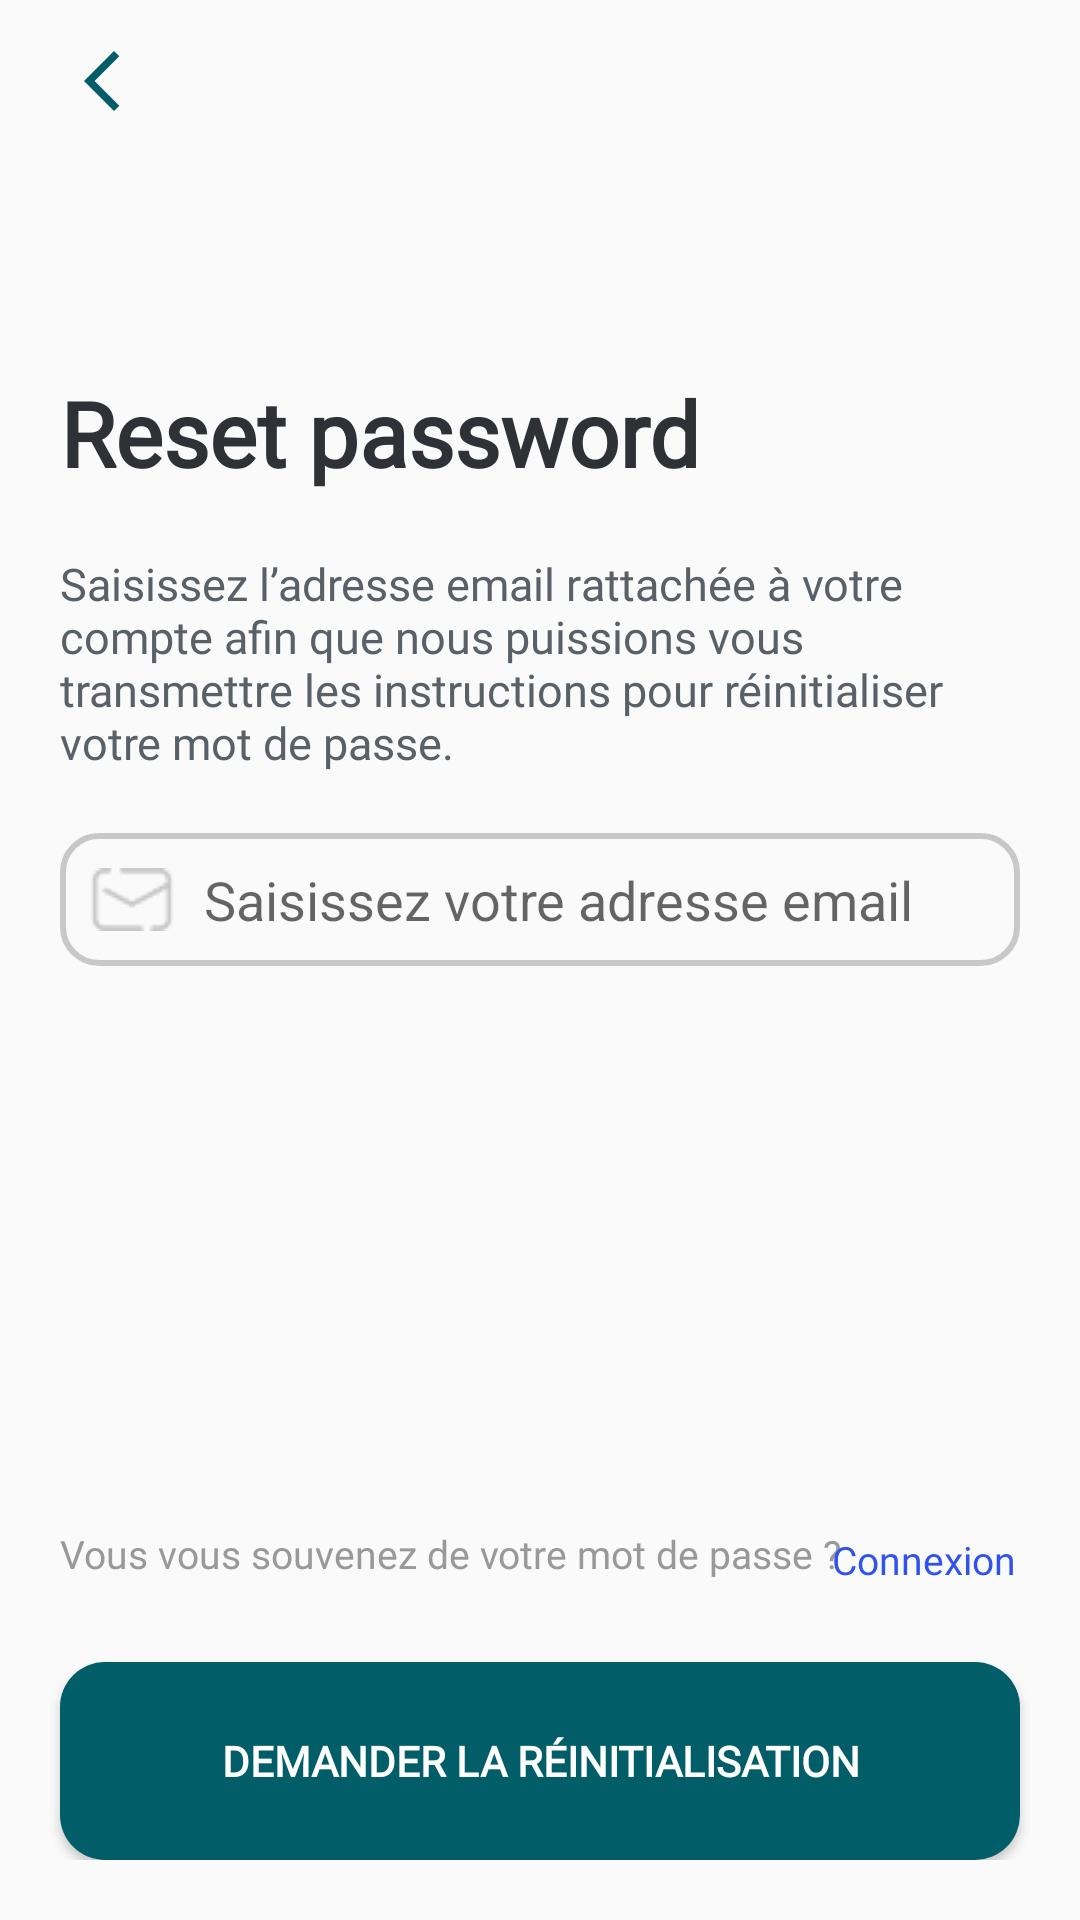

Icon click points for this 1080 x 1920 phone screenshot, format point (x, y):
arrow back: point (101, 81)
